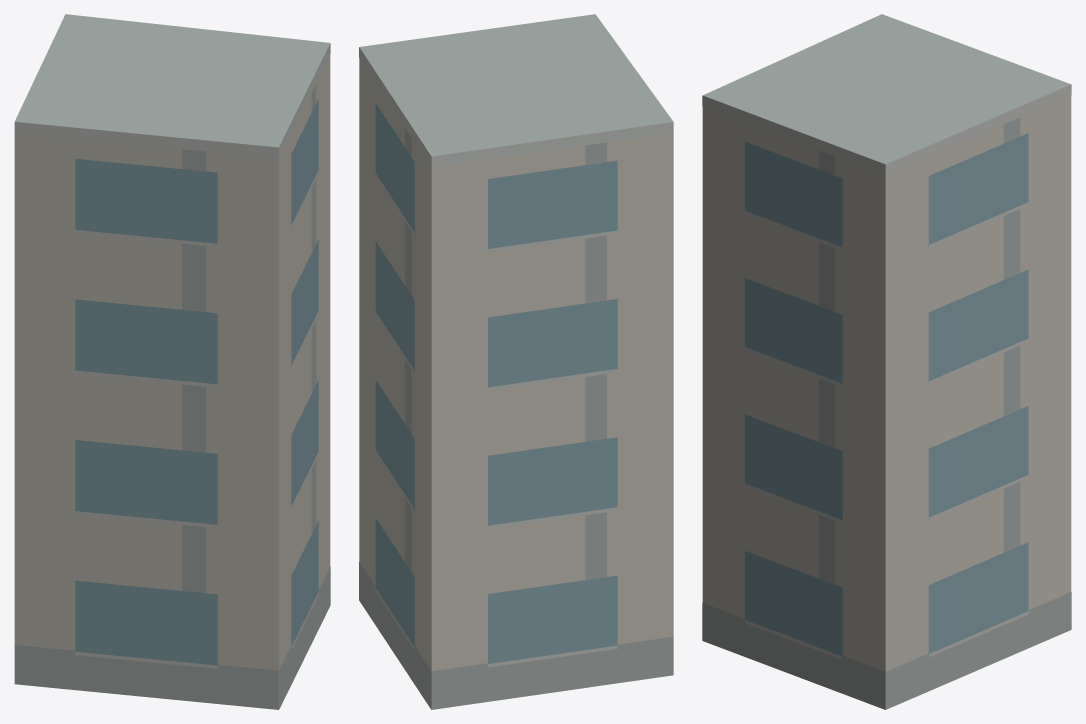
Rendered from survey-upis-32522145.glb.
The picture shows the model from 3 angles, left to right: view 1: azimuth 30°, elevation 25°; view 2: azimuth 150°, elevation 25°; view 3: azimuth 270°, elevation 25°; orthographic projection. The views are drawn at different scales.
Visible parts, largest first — view 1: survey-upis-32522145.tmp; view 2: survey-upis-32522145.tmp; view 3: survey-upis-32522145.tmp.
Part boxes in pixels (x1,y1,x2,y2): survey-upis-32522145.tmp: (14,14,330,709); survey-upis-32522145.tmp: (359,14,673,709); survey-upis-32522145.tmp: (702,14,1071,709).
Size of the model in its own units: 7.22 by 12.2 by 7.48.
